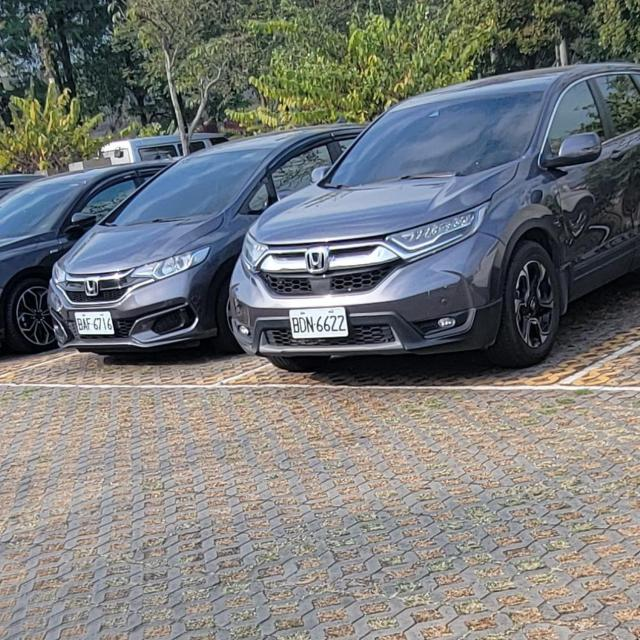W: (287, 301, 351, 344), (72, 307, 114, 338)
